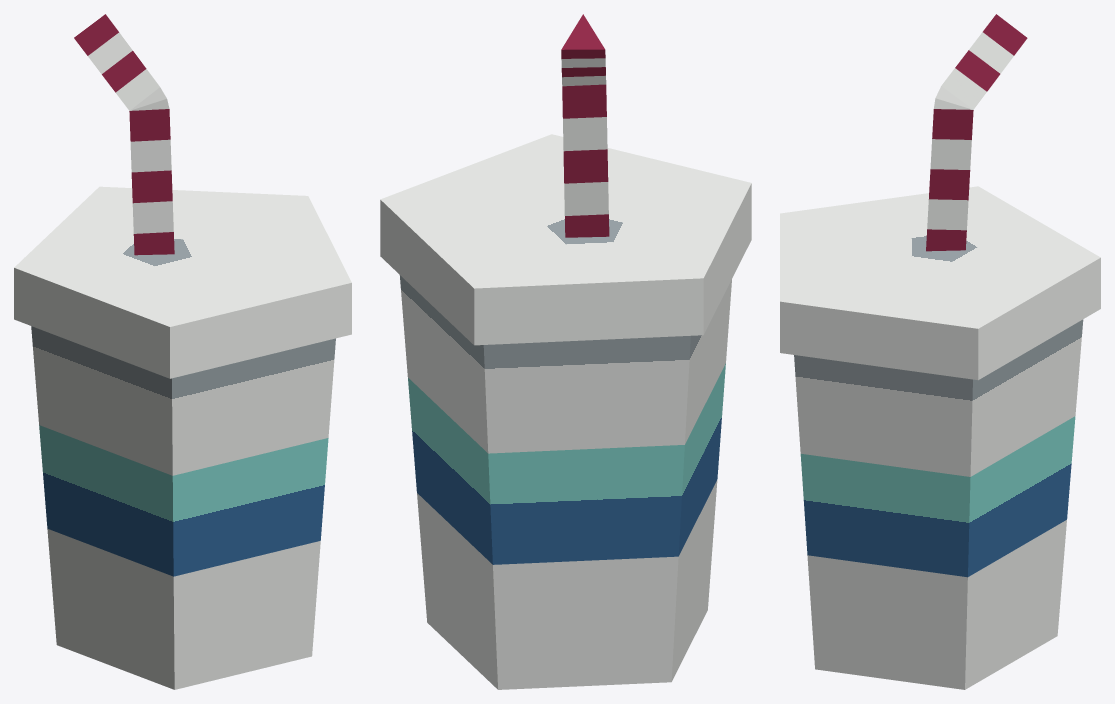
Rendered from goyslurp.glb.
The picture shows the model from 3 angles, left to right: view 1: azimuth 30°, elevation 25°; view 2: azimuth 150°, elevation 25°; view 3: azimuth 270°, elevation 25°; orthographic projection. The views are drawn at different scales.
Visible parts, largest first — view 1: goyslurp; view 2: goyslurp; view 3: goyslurp.
Boxes of the visible parts, x1,y1,x2,y2 form: goyslurp: [14, 14, 351, 689]; goyslurp: [380, 14, 751, 689]; goyslurp: [780, 14, 1100, 689].
Bounding box in the file's own units: 0.122 × 0.2393 × 0.1161.
1 material, 1 textured.
